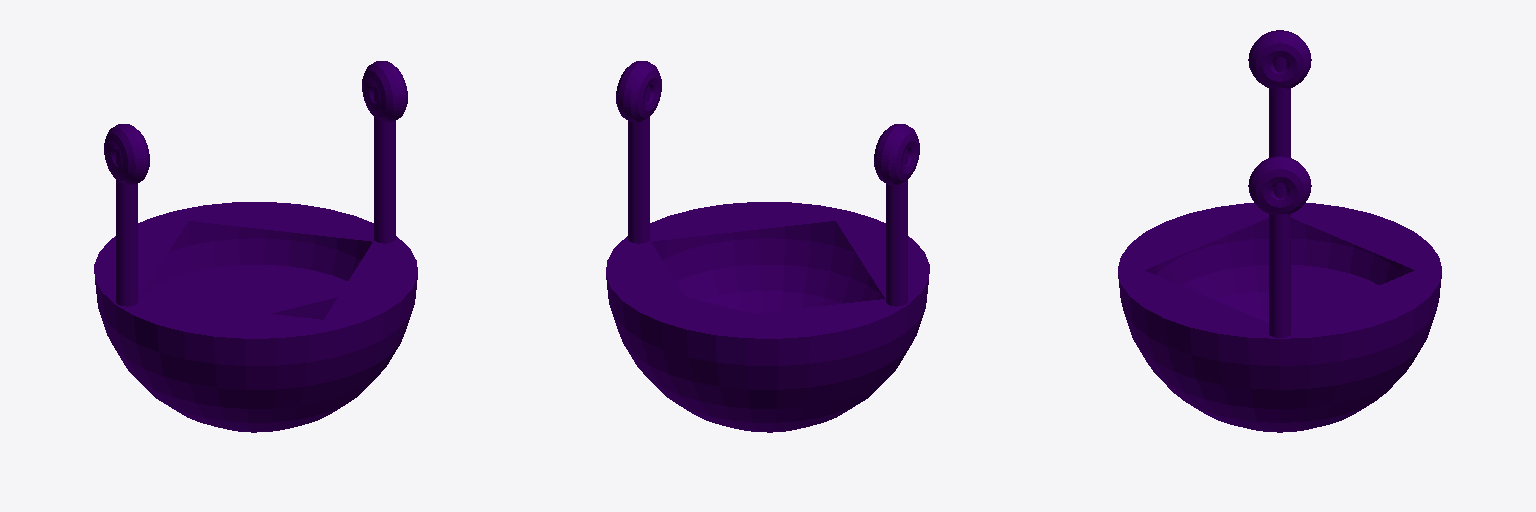
The model's file is carrinho2.obj.
3 renders of one model, left to right at view 1: azimuth 30°, elevation 25°; view 2: azimuth 150°, elevation 25°; view 3: azimuth 270°, elevation 25°, orthographic.
Parts seen in each view (by area): view 1: Sphere.001_Sphere.006; view 2: Sphere.001_Sphere.006; view 3: Sphere.001_Sphere.006.
Part boxes in pixels (x1,y1,x2,y2): Sphere.001_Sphere.006: (94, 61, 417, 432); Sphere.001_Sphere.006: (606, 61, 929, 432); Sphere.001_Sphere.006: (1118, 30, 1441, 432).
Bounding box in the file's own units: 3.62 × 3.95 × 3.6.